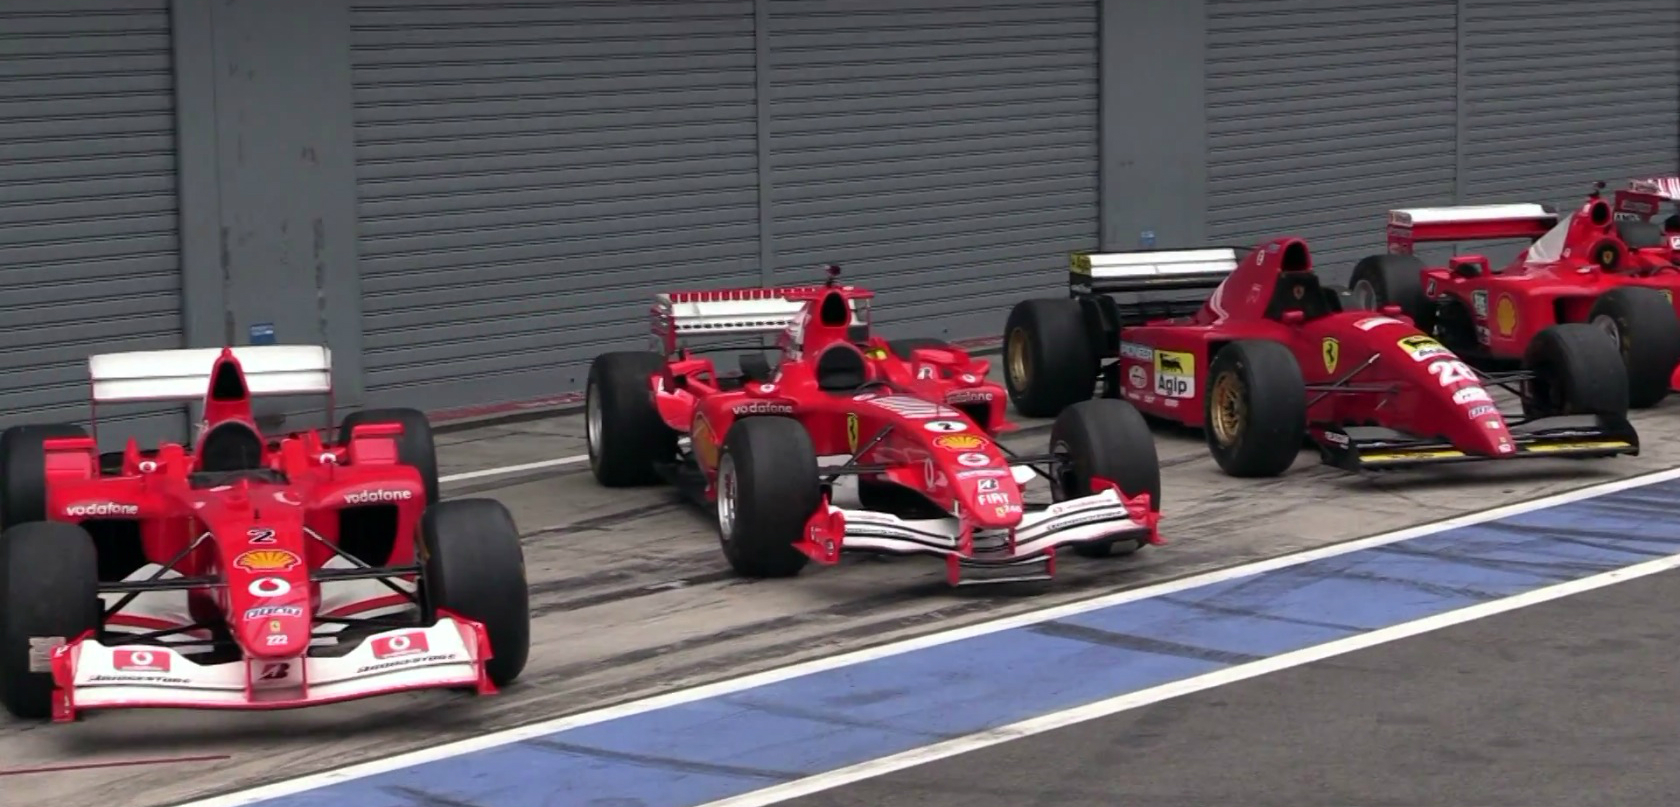f1_car: (1, 331, 558, 761), (570, 253, 1190, 622), (987, 235, 1662, 487)
